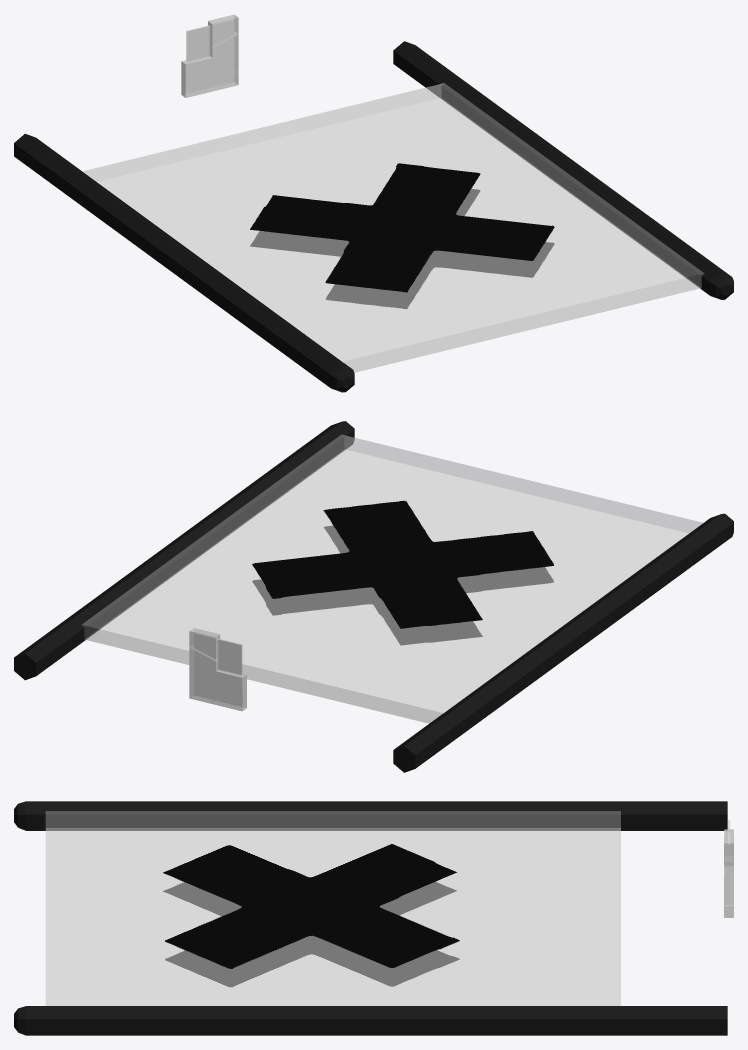
The model's file is block_obstacle_destroyed.glb.
3 views of the same model, one above another, from view 1: azimuth 30°, elevation 25°; view 2: azimuth 150°, elevation 25°; view 3: azimuth 270°, elevation 25° (orthographic). The views are drawn at different scales.
Visible parts, largest first — view 1: block, block_glass_0_cell, block_glass_0_cell.002, block_glass_0_cell_cell.001, block_glass_0_cell.001, block_glass_0_cell.002_cell, block_glass_0_cell.002_cell.001, block_glass_0_cell_cell; view 2: block, block_glass_0_cell, block_glass_0_cell.002, block_glass_0_cell_cell.001, block_glass_0_cell.001, block_glass_0_cell.002_cell, block_glass_0_cell.002_cell.001, block_glass_0_cell_cell; view 3: block, block_glass_0_cell.002, block_glass_0_cell.002_cell.001.
Part boxes in pixels (<box>): block: <box>14,41,733,392</box>; block_glass_0_cell: <box>181,56,238,97</box>; block_glass_0_cell.002: <box>208,14,238,73</box>; block_glass_0_cell_cell.001: <box>181,57,238,89</box>; block_glass_0_cell.001: <box>186,25,209,61</box>; block_glass_0_cell.002_cell: <box>208,15,238,47</box>; block_glass_0_cell.002_cell.001: <box>210,35,238,72</box>; block_glass_0_cell_cell: <box>181,68,217,97</box>; block: <box>14,421,733,772</box>; block_glass_0_cell: <box>189,670,246,711</box>; block_glass_0_cell.002: <box>189,628,220,686</box>; block_glass_0_cell_cell.001: <box>189,670,246,703</box>; block_glass_0_cell.001: <box>218,639,241,675</box>; block_glass_0_cell.002_cell: <box>189,628,219,661</box>; block_glass_0_cell.002_cell.001: <box>189,648,217,686</box>; block_glass_0_cell_cell: <box>211,680,246,710</box>; block: <box>14,801,727,1035</box>; block_glass_0_cell.002: <box>724,829,733,905</box>; block_glass_0_cell.002_cell.001: <box>724,861,733,904</box>.
Bounding box in the file's own units: 6.79 × 1.49 × 9.54.
4 materials, 2 textured.
